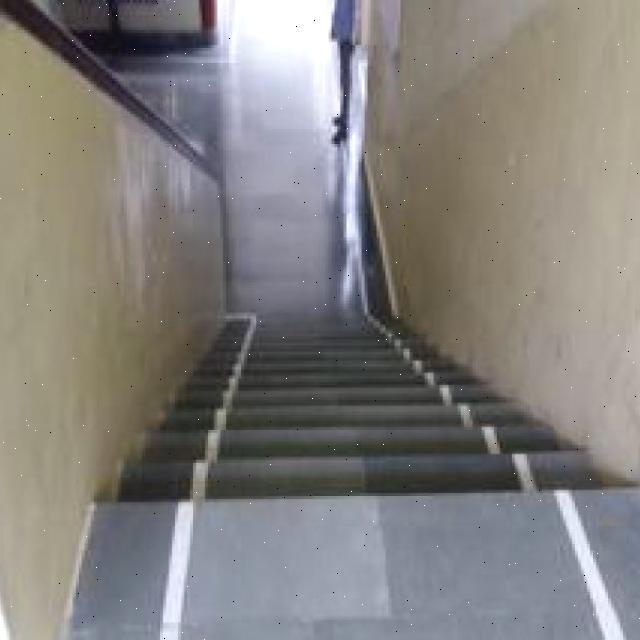stair: (76, 361, 602, 554)
